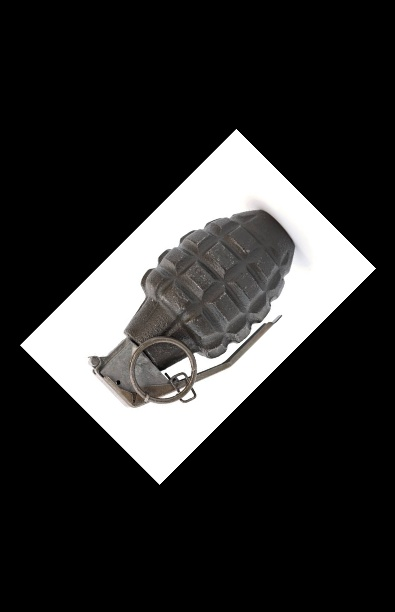e1: (87, 209, 296, 411)
